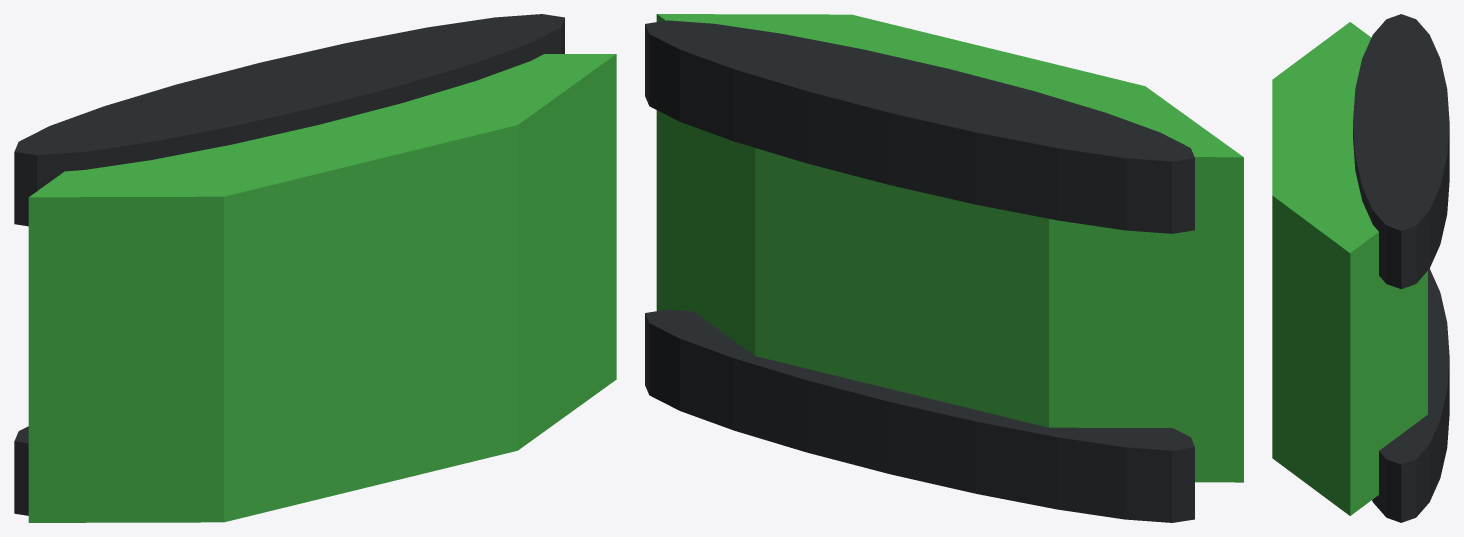
Rendered from tinker.obj.
3 views of the same model, side by side, from view 1: azimuth 30°, elevation 25°; view 2: azimuth 150°, elevation 25°; view 3: azimuth 270°, elevation 25° (orthographic). The views are drawn at different scales.
Parts seen in each view (by area): view 1: group_0_4634441, group_0_2829873; view 2: group_0_4634441, group_0_2829873; view 3: group_0_4634441, group_0_2829873.
Part boxes in pixels (x1=…): group_0_4634441: x1=28, y1=54, x2=616, y2=522; group_0_2829873: x1=14, y1=14, x2=564, y2=515; group_0_4634441: x1=656, y1=14, x2=1243, y2=482; group_0_2829873: x1=645, y1=20, x2=1194, y2=522; group_0_4634441: x1=1272, y1=22, x2=1427, y2=515; group_0_2829873: x1=1353, y1=14, x2=1449, y2=522.
Bounding box in the file's own units: 34 × 20 × 11.
